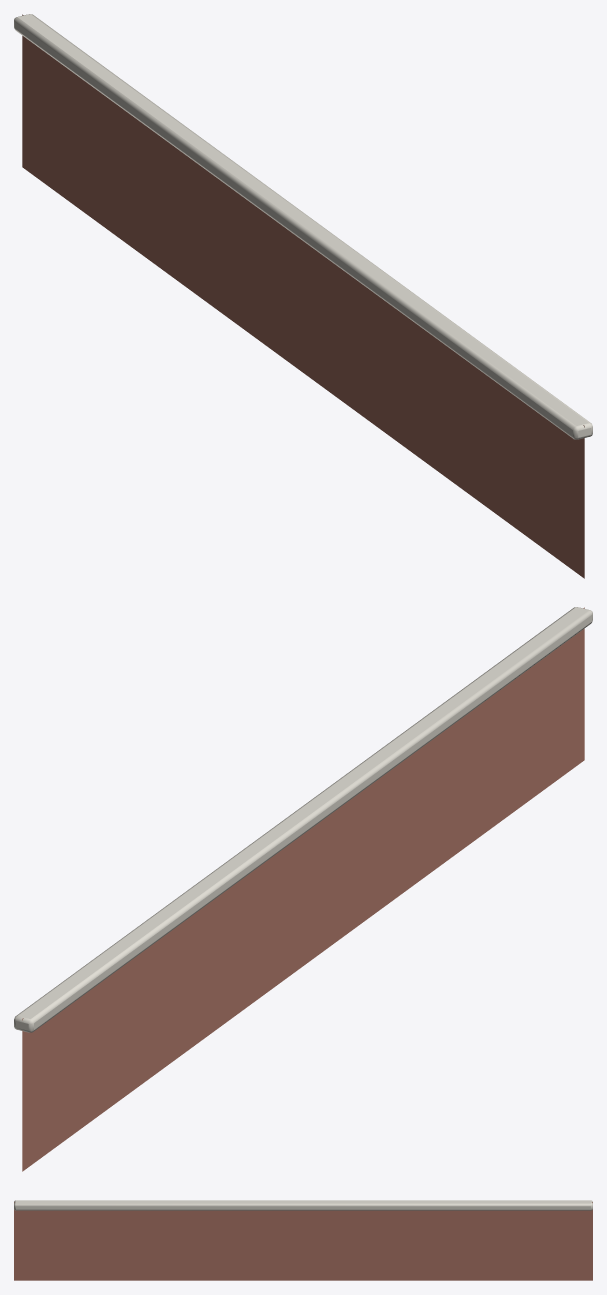
File: side_cap_6.glb
3 renders of one model, top to bottom at view 1: azimuth 30°, elevation 25°; view 2: azimuth 150°, elevation 25°; view 3: azimuth 270°, elevation 25°, orthographic. The views are drawn at different scales.
Parts seen in each view (by area): view 1: side_cap_6; view 2: side_cap_6; view 3: side_cap_6.
Part boxes in pixels (bbox=[...]): side_cap_6: bbox=[14, 14, 592, 578]; side_cap_6: bbox=[14, 607, 592, 1171]; side_cap_6: bbox=[14, 1200, 592, 1280].
Bounding box in the file's own units: 0.12 × 0.9 × 6.
